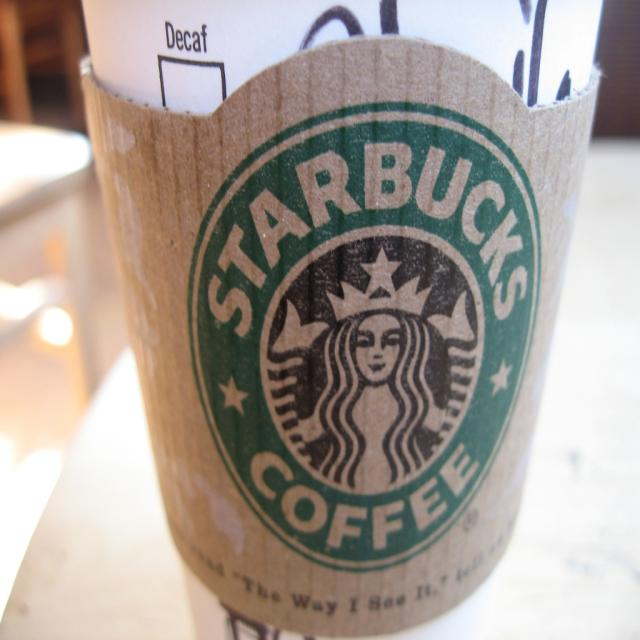starbucks: (186, 98, 545, 574)
